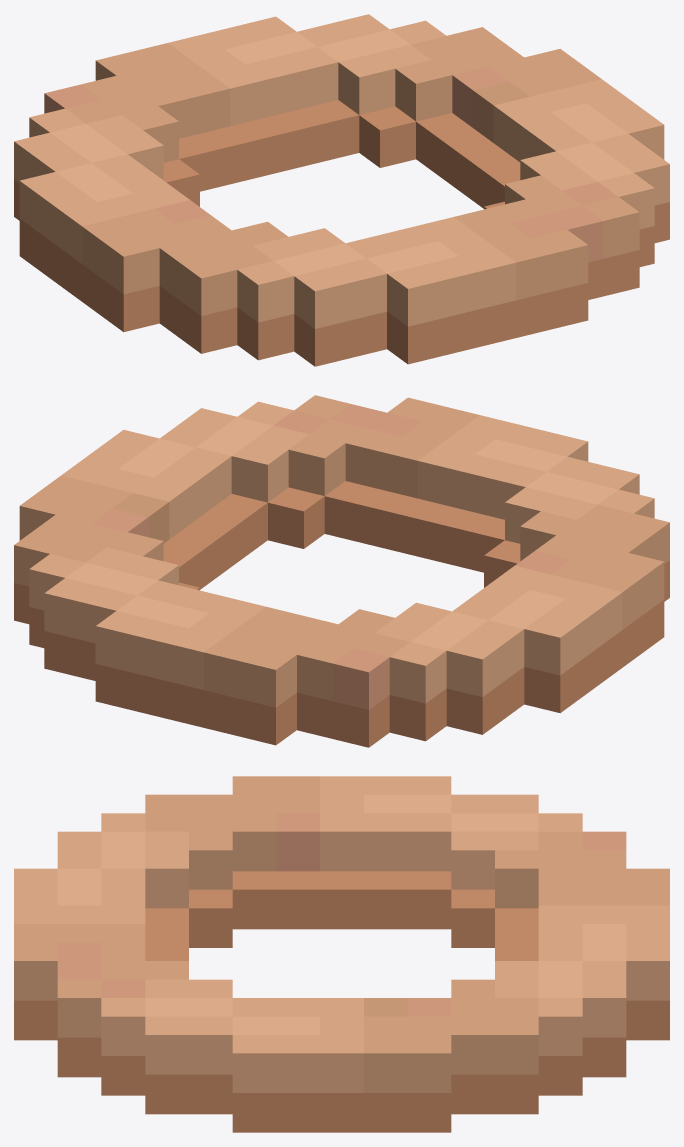
Rendered from tower-top.glb.
The picture shows the model from 3 angles, top to bottom: view 1: azimuth 30°, elevation 25°; view 2: azimuth 150°, elevation 25°; view 3: azimuth 270°, elevation 25°; orthographic projection. The views are drawn at different scales.
Visible parts, largest first — view 1: tower-top; view 2: tower-top; view 3: tower-top.
Boxes of the visible parts, box(x1,y1,x2,y2) form: tower-top: box(14, 14, 669, 366); tower-top: box(14, 395, 669, 747); tower-top: box(14, 776, 669, 1132).
Bounding box in the file's own units: 1.07 × 0.1428 × 1.07.
1 material, 1 textured.
